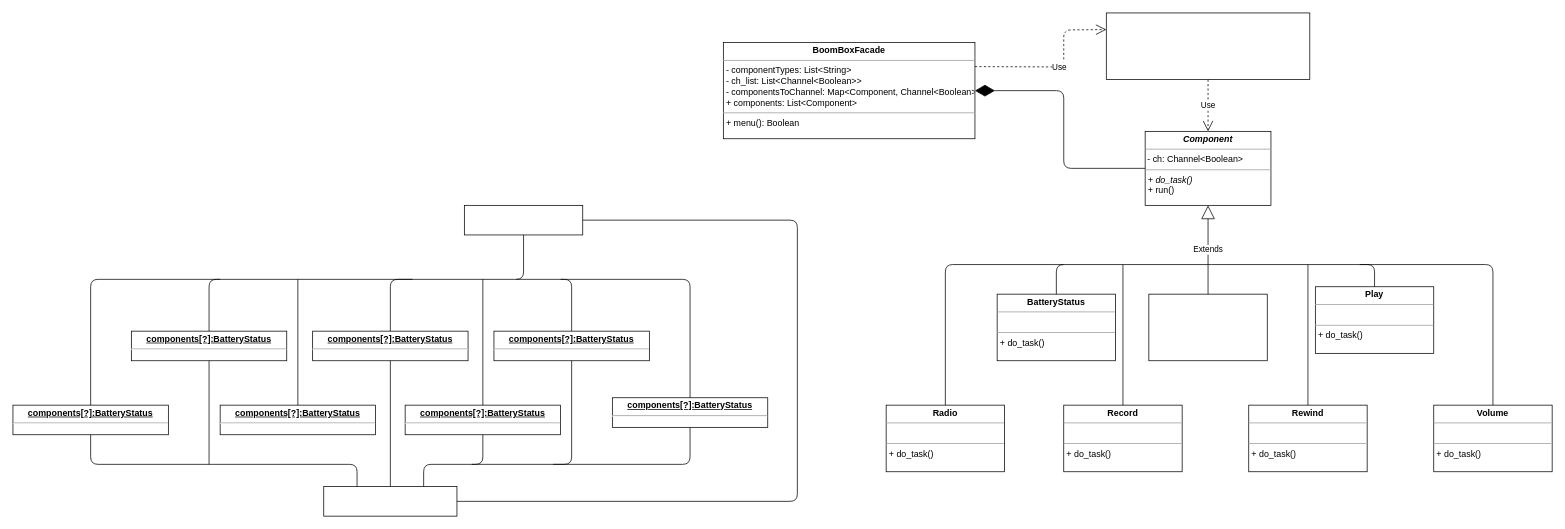
The diagram is 1565 pixels wide and 529 high, and some of its shapes have lost their labels. Here are the shapes that lost their labels. From the top down, the centre of each, then its label:
the point at 1208,46: ComponentFactory + Create(componentType:String): Component
the point at 523,220: facade:BoomBoxFacade
the point at 1207,327: FastForward + do_task()
the point at 390,501: factory:ComponentFactory
